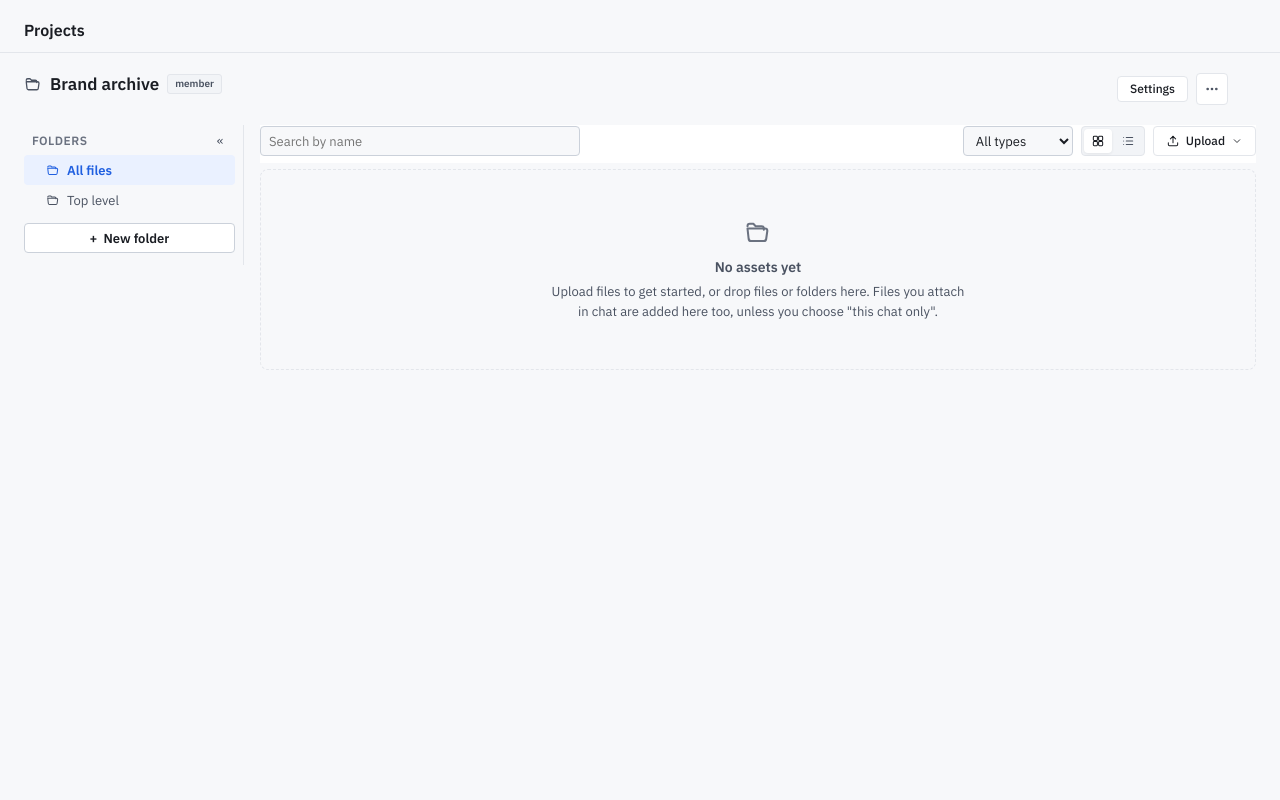
Test case: ProjectsSurface overflow menu › Leave project confirms, leaves, and falls back to Personal with the lost-access notice
Click the button named "Project actions" at coordinates (1212, 89), box top-left (1196, 73), bottom-right (1228, 105)
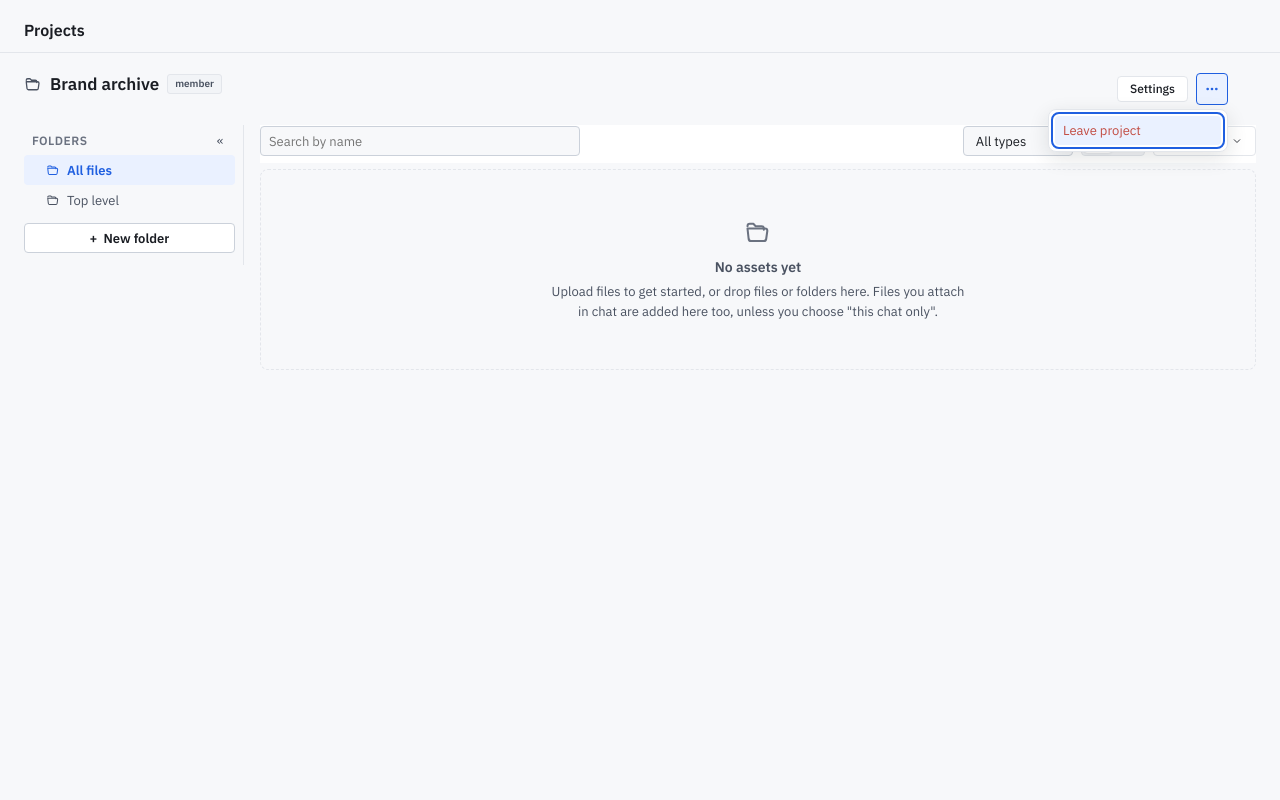
Click the menu item "Leave project" at coordinates (1138, 130), box top-left (1055, 116), bottom-right (1221, 145)
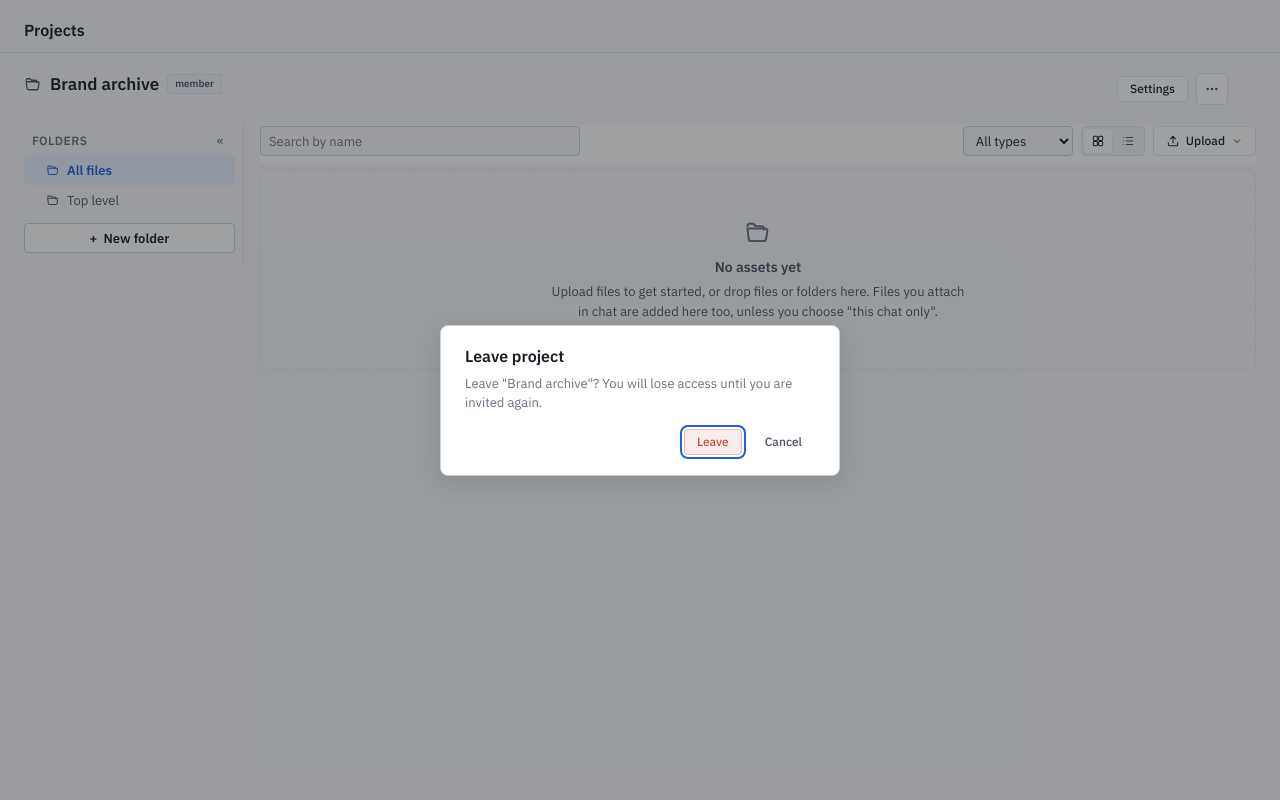
Result: the dialog shows "Leave \"Brand archive\"? You will lose access until you are invited again." at top-left (465, 374), bottom-right (792, 411)
Click the button "Leave" at coordinates (713, 442), box top-left (684, 428), bottom-right (742, 454)
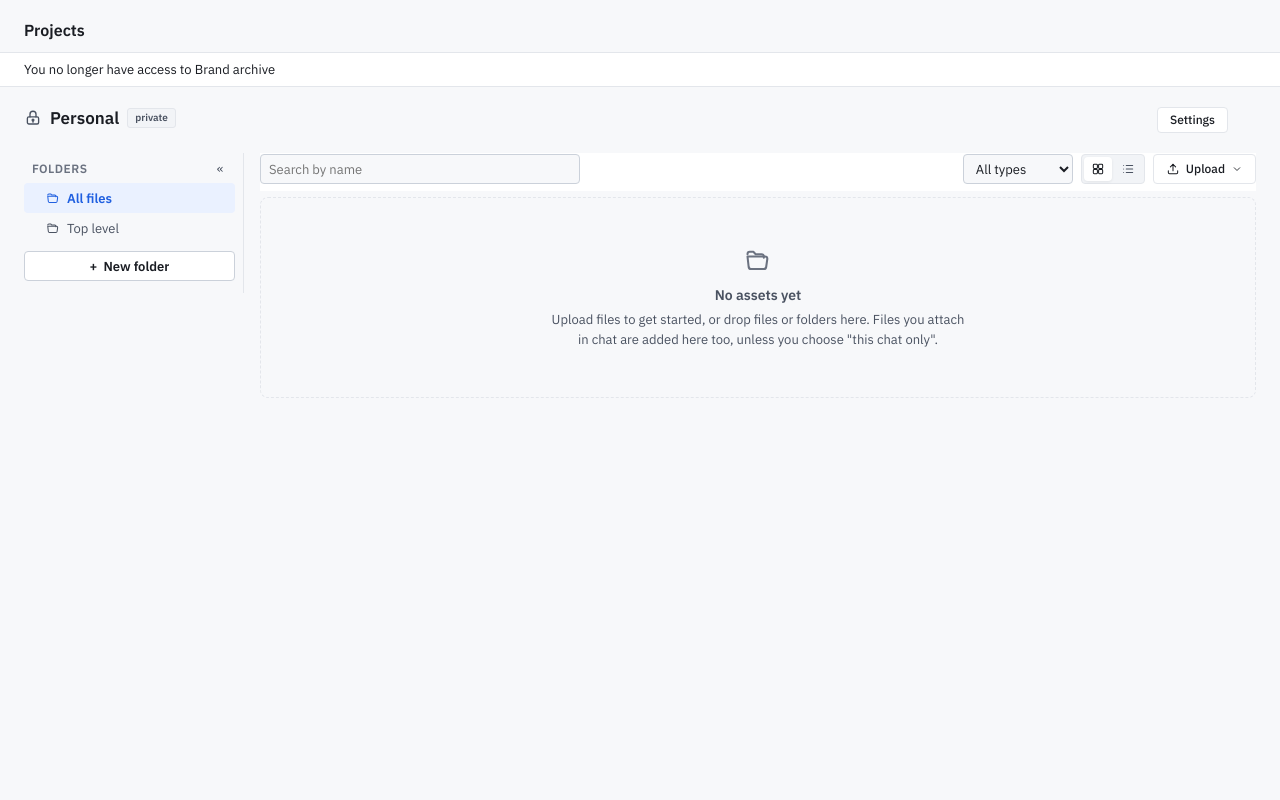
Result: the heading "Personal" is shown at top-left (50, 107), bottom-right (119, 129)
Result: the message reads "You no longer have access to Brand archive" at top-left (24, 61), bottom-right (275, 78)
